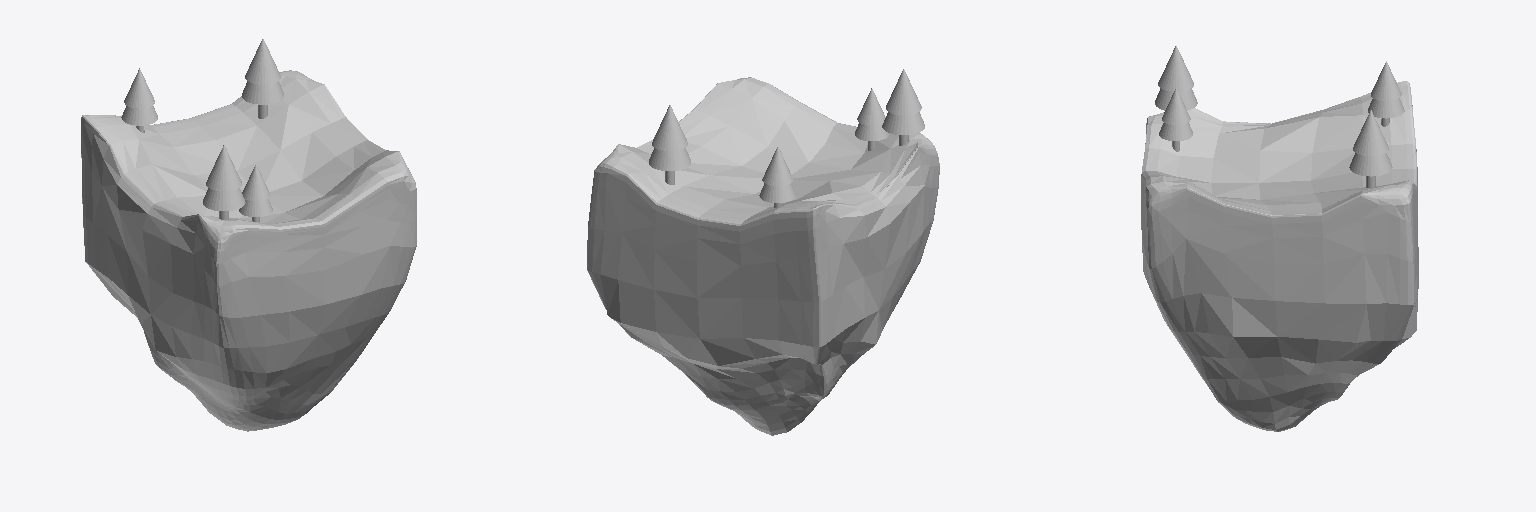
The model's file is world.obj.
The picture shows the model from 3 angles: view 1: azimuth 30°, elevation 25°; view 2: azimuth 150°, elevation 25°; view 3: azimuth 270°, elevation 25°; orthographic projection.
Visible parts, largest first — view 1: Cylinder.001; view 2: Cylinder.001; view 3: Cylinder.001.
Boxes of the visible parts, x1=… form: Cylinder.001: x1=81, y1=39, x2=416, y2=431; Cylinder.001: x1=587, y1=69, x2=939, y2=435; Cylinder.001: x1=1141, y1=46, x2=1418, y2=431.
Bounding box in the file's own units: 33.89 × 47.27 × 34.49.